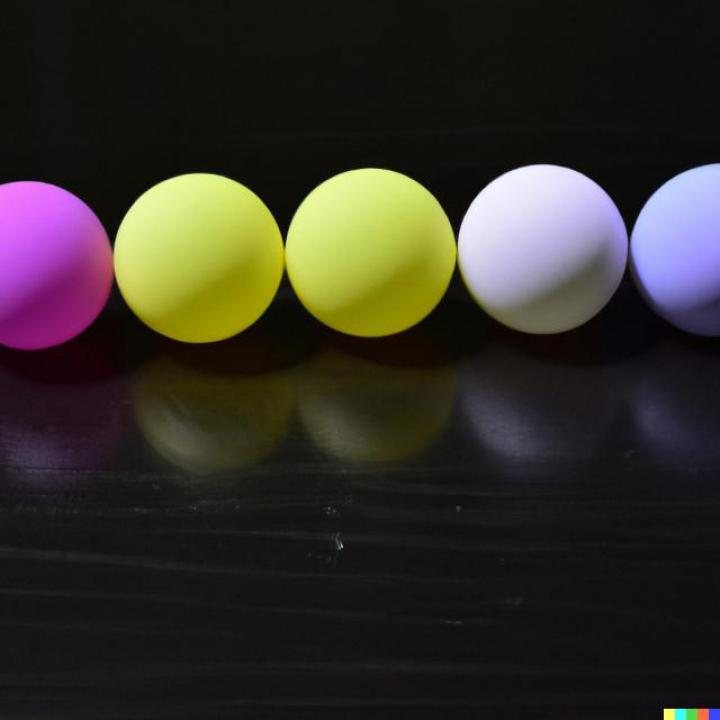white: (458, 164, 628, 334)
